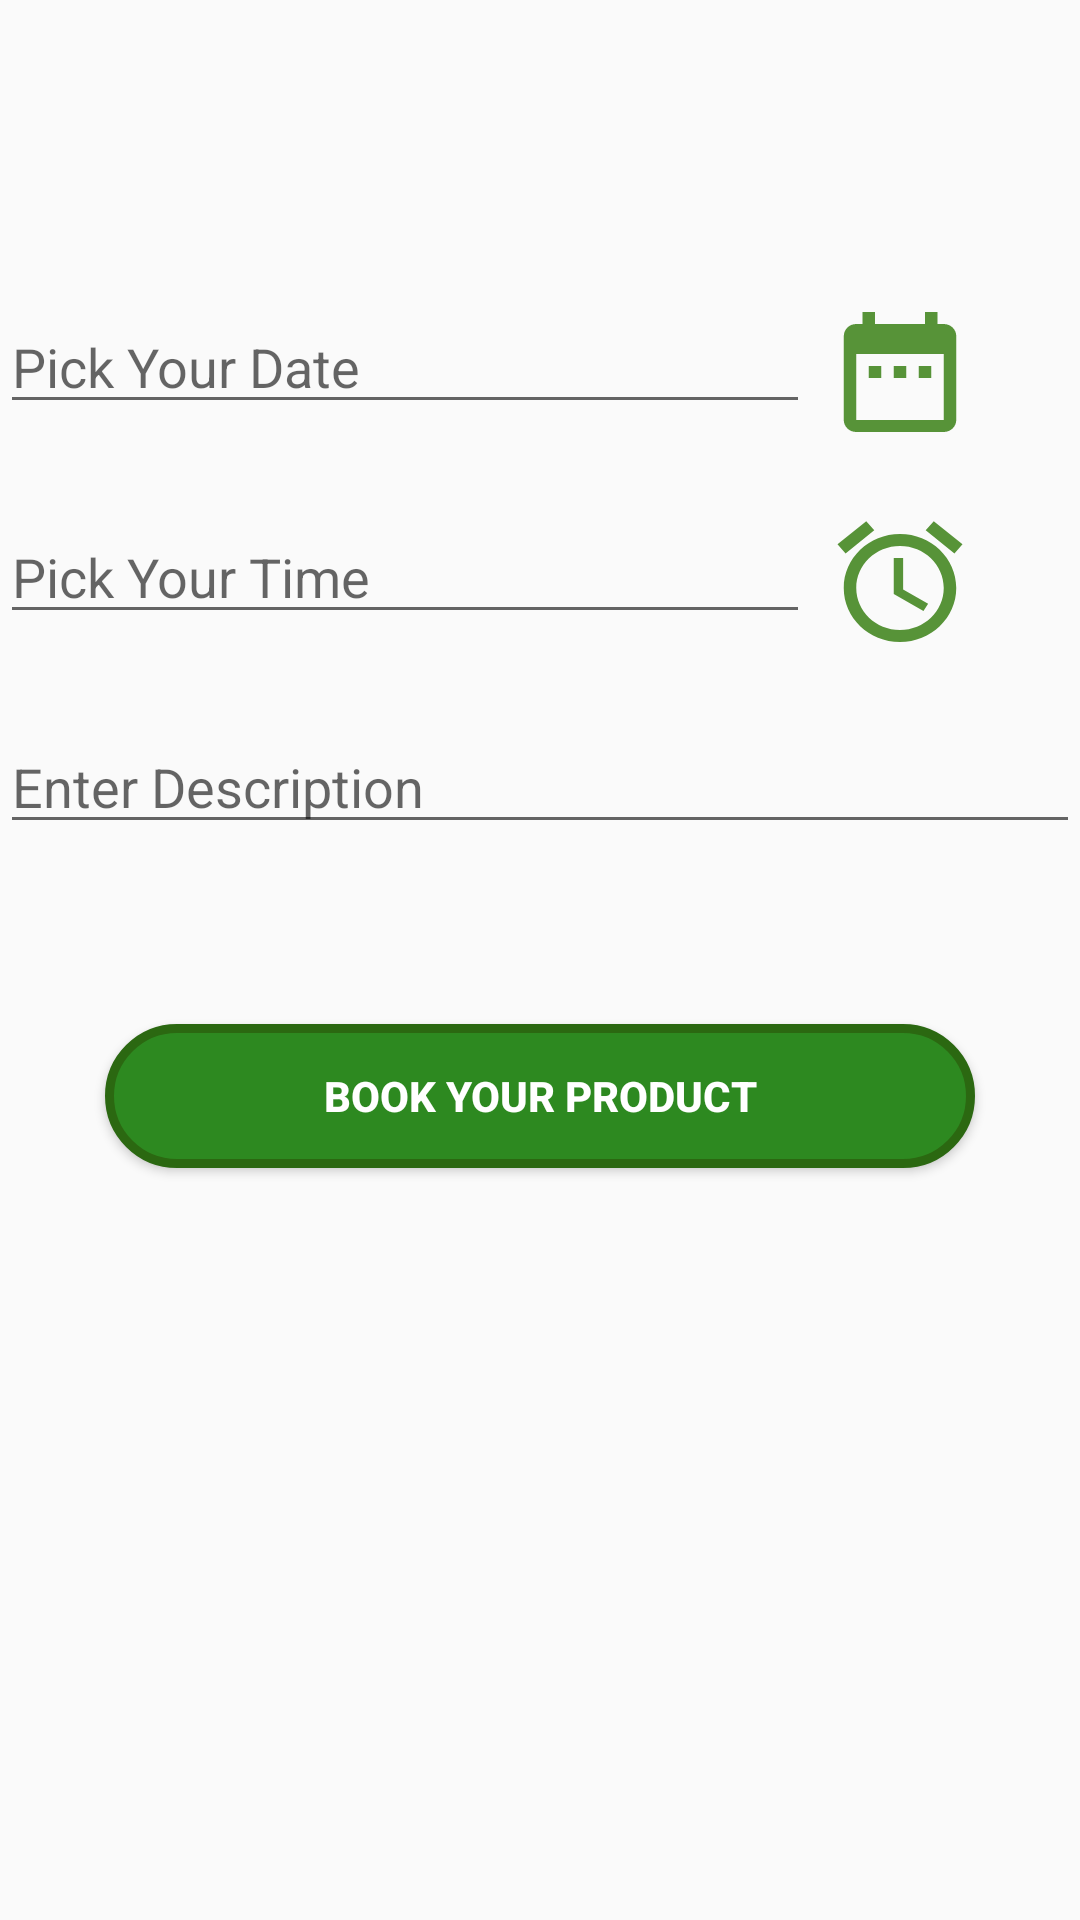

Named icons in this screenshot (1080 × 1920) and their centers, (x=x, y=y):
alarm: (x=900, y=581)
date range: (x=900, y=372)
